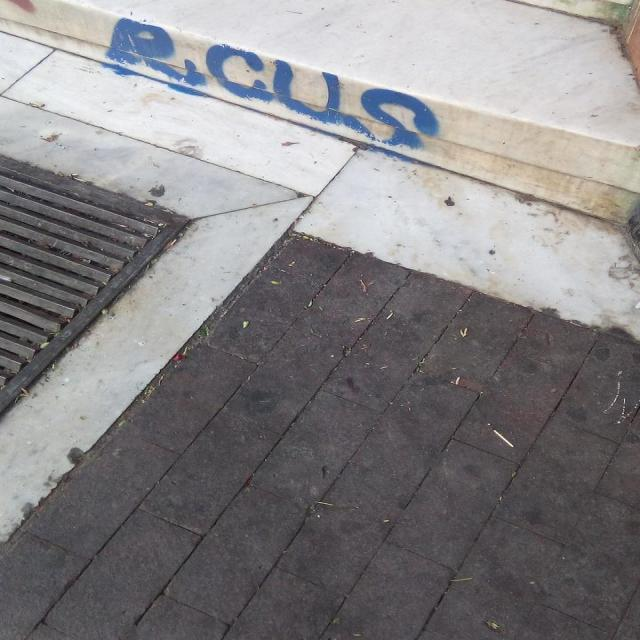nonspitting: (104, 17, 442, 147)
